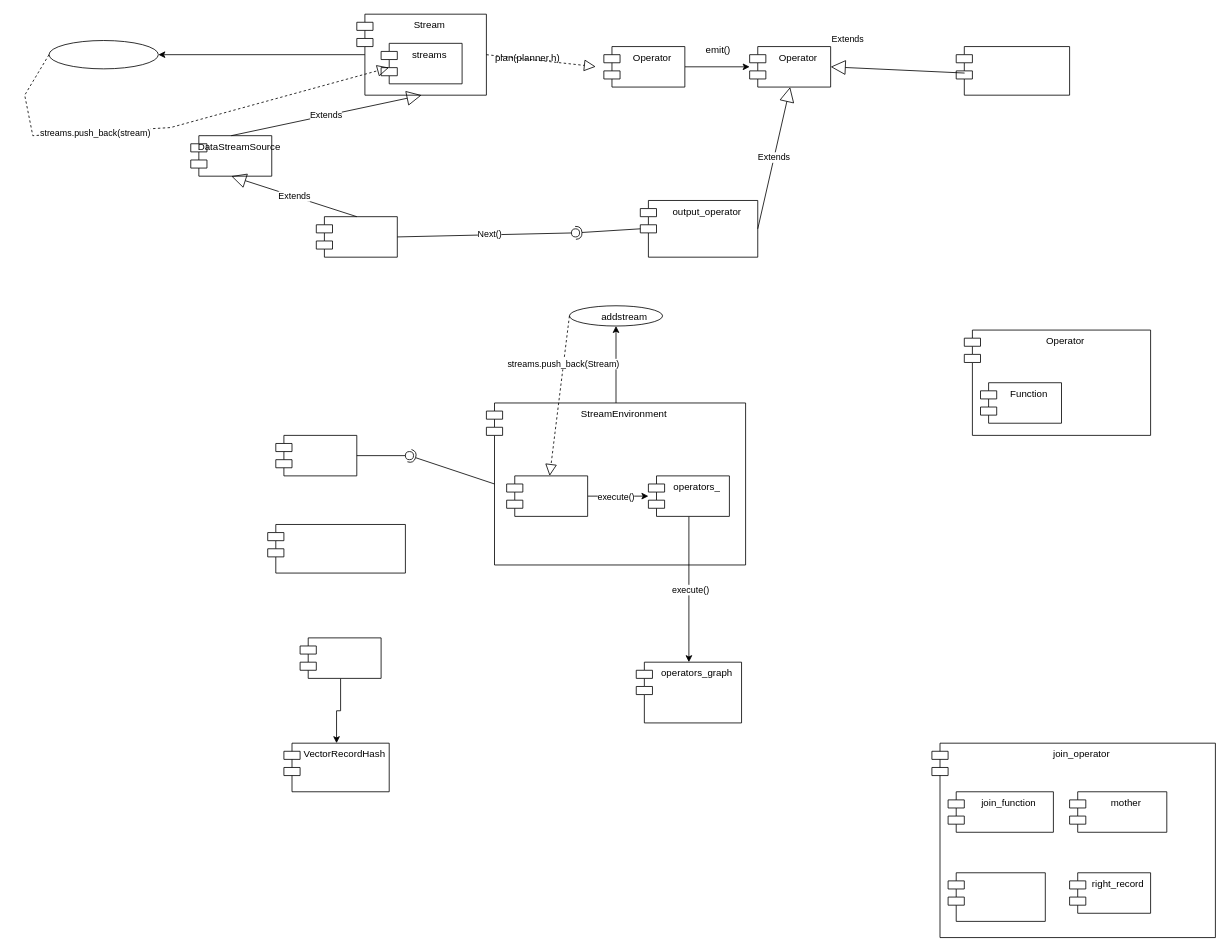
This 1230x952 diagram has some shape labels left out. The shapes that lost their labels are listed below. From the top down, each one's centre as x and y in pixels, then its label:
the point at 103,54: join, filter, map ...
the point at 1012,70: some_operators (join, filter...)
the point at 356,236: FileStreamSource
the point at 316,455: ConfigMap
the point at 547,495: streams_
the point at 336,548: PerformanceMonitor
the point at 340,657: VectorRecord
the point at 996,896: left_record
